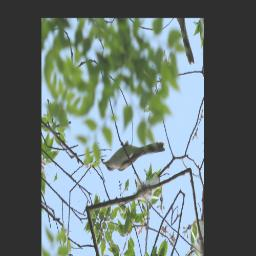Cuckoo: (101, 103, 166, 209)
